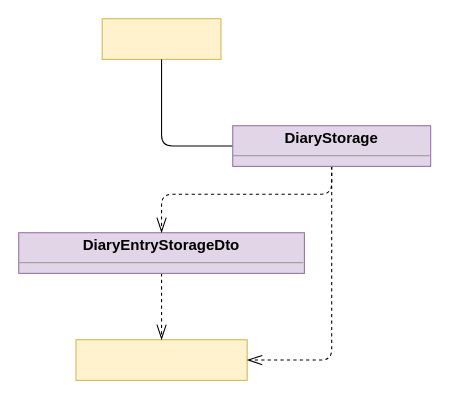
The diagram is 449 pixels wide and 399 high, and some of its shapes have lost their labels. Each missing label, with the centre of its shape:
Diary: pixel 161 38
DiaryEntry: pixel 161 359
